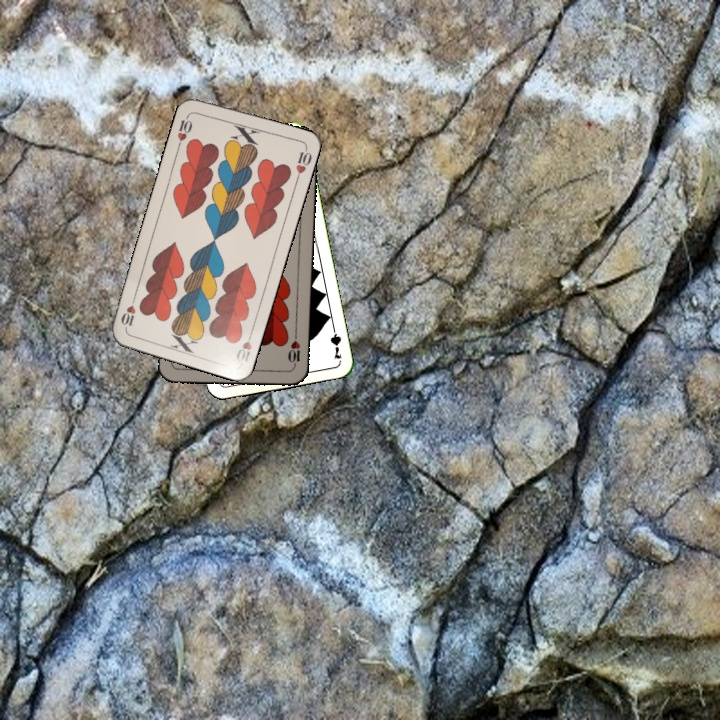G7: (326, 321, 344, 362)
H10: (232, 326, 256, 365), (173, 110, 195, 150), (284, 330, 303, 370)
